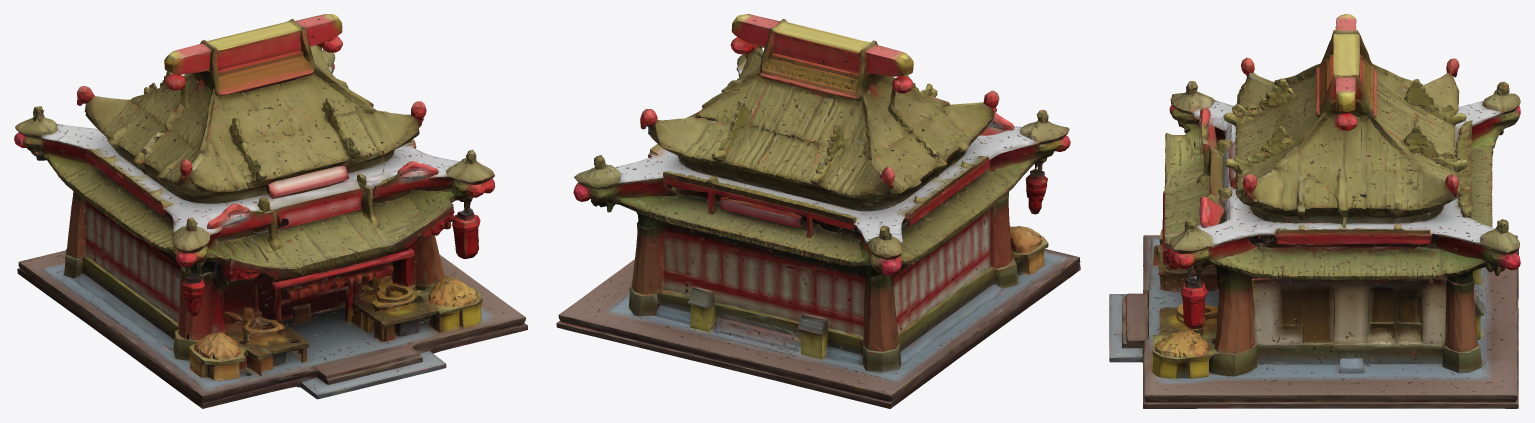
The model's file is landmark_chinese.glb.
3 renders of one model, left to right at view 1: azimuth 30°, elevation 25°; view 2: azimuth 150°, elevation 25°; view 3: azimuth 270°, elevation 25°, orthographic. The views are drawn at different scales.
Parts seen in each view (by area): view 1: world; view 2: world; view 3: world.
Boxes of the visible parts, x1=… form: world: x1=14, y1=14, x2=527, y2=408; world: x1=556, y1=14, x2=1080, y2=408; world: x1=1109, y1=14, x2=1520, y2=408.
Bounding box in the file's own units: 0.9472 × 0.7372 × 1.
Materials: 1 (1 with a texture image).
